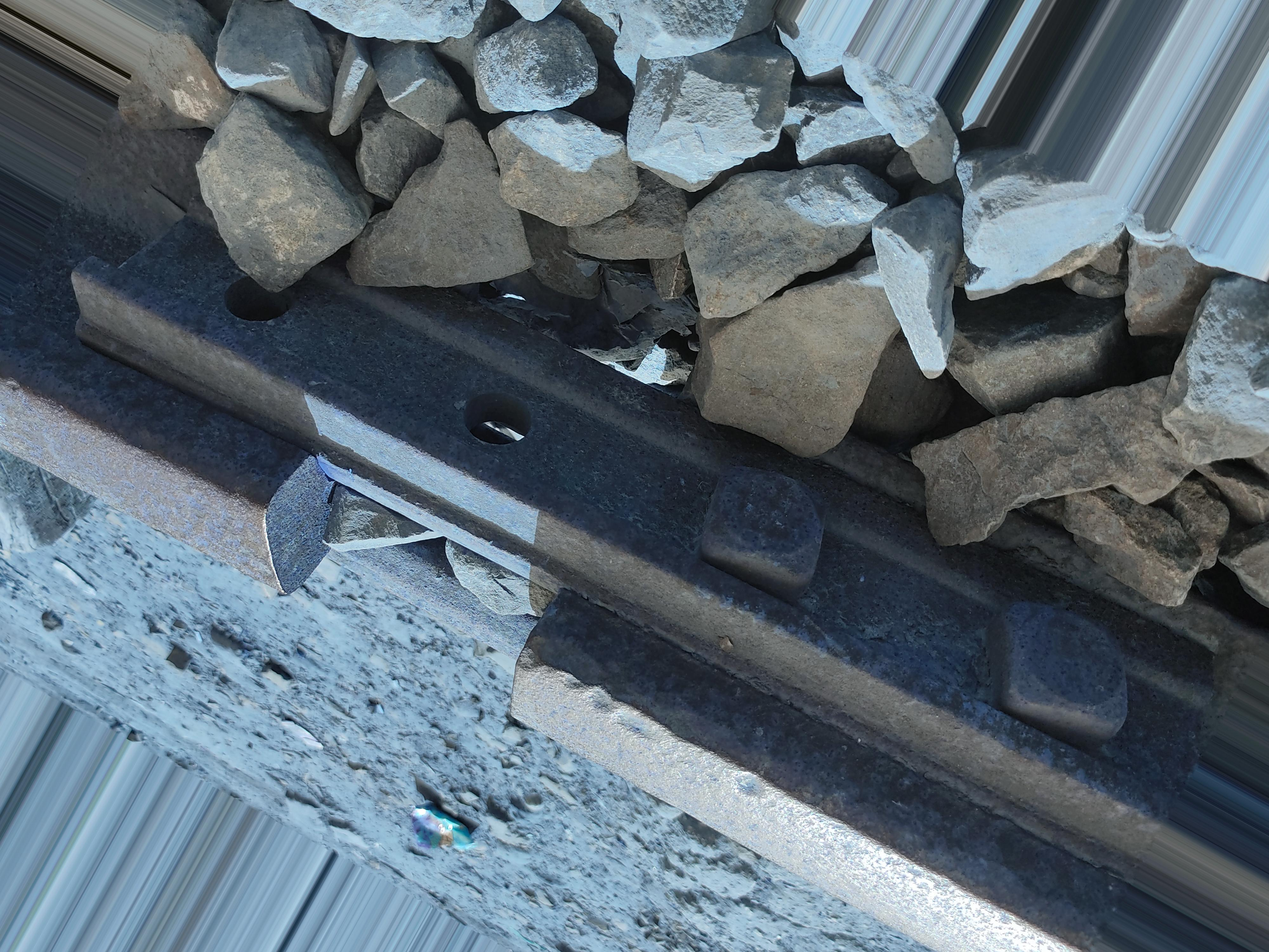tracks_fault: (160, 207, 647, 773)
